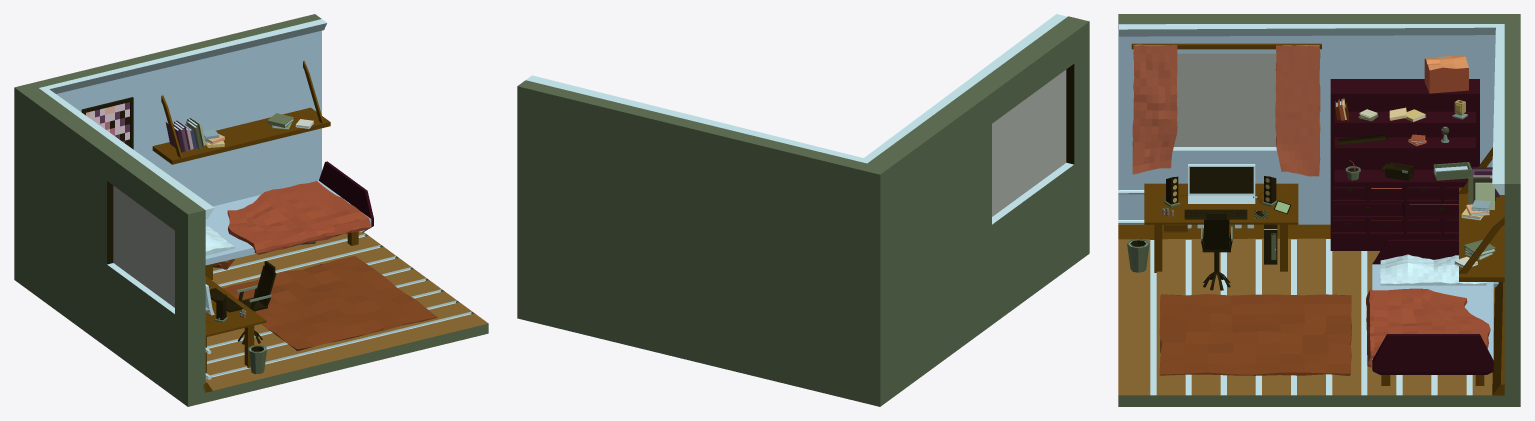
3 views of the same model, side by side, from view 1: azimuth 30°, elevation 25°; view 2: azimuth 150°, elevation 25°; view 3: azimuth 270°, elevation 25° (orthographic). The views are drawn at different scales.
Visible parts, largest first — view 1: Plane; view 2: Plane; view 3: Plane.
Boxes of the visible parts, bbox=[...] form: Plane: bbox=[14, 14, 488, 406]; Plane: bbox=[517, 14, 1089, 406]; Plane: bbox=[1118, 14, 1520, 406].
Size of the model in its own units: 400 by 245 by 400.
1 material, 1 textured.
